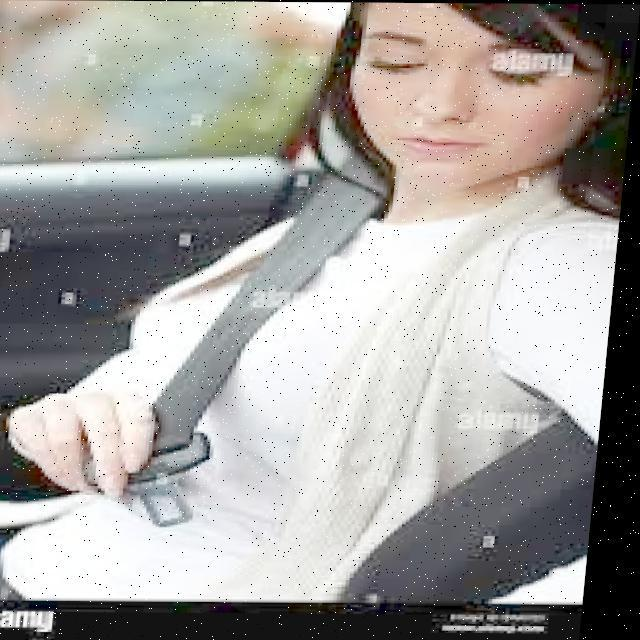seatbelt: (104, 186, 550, 459)
